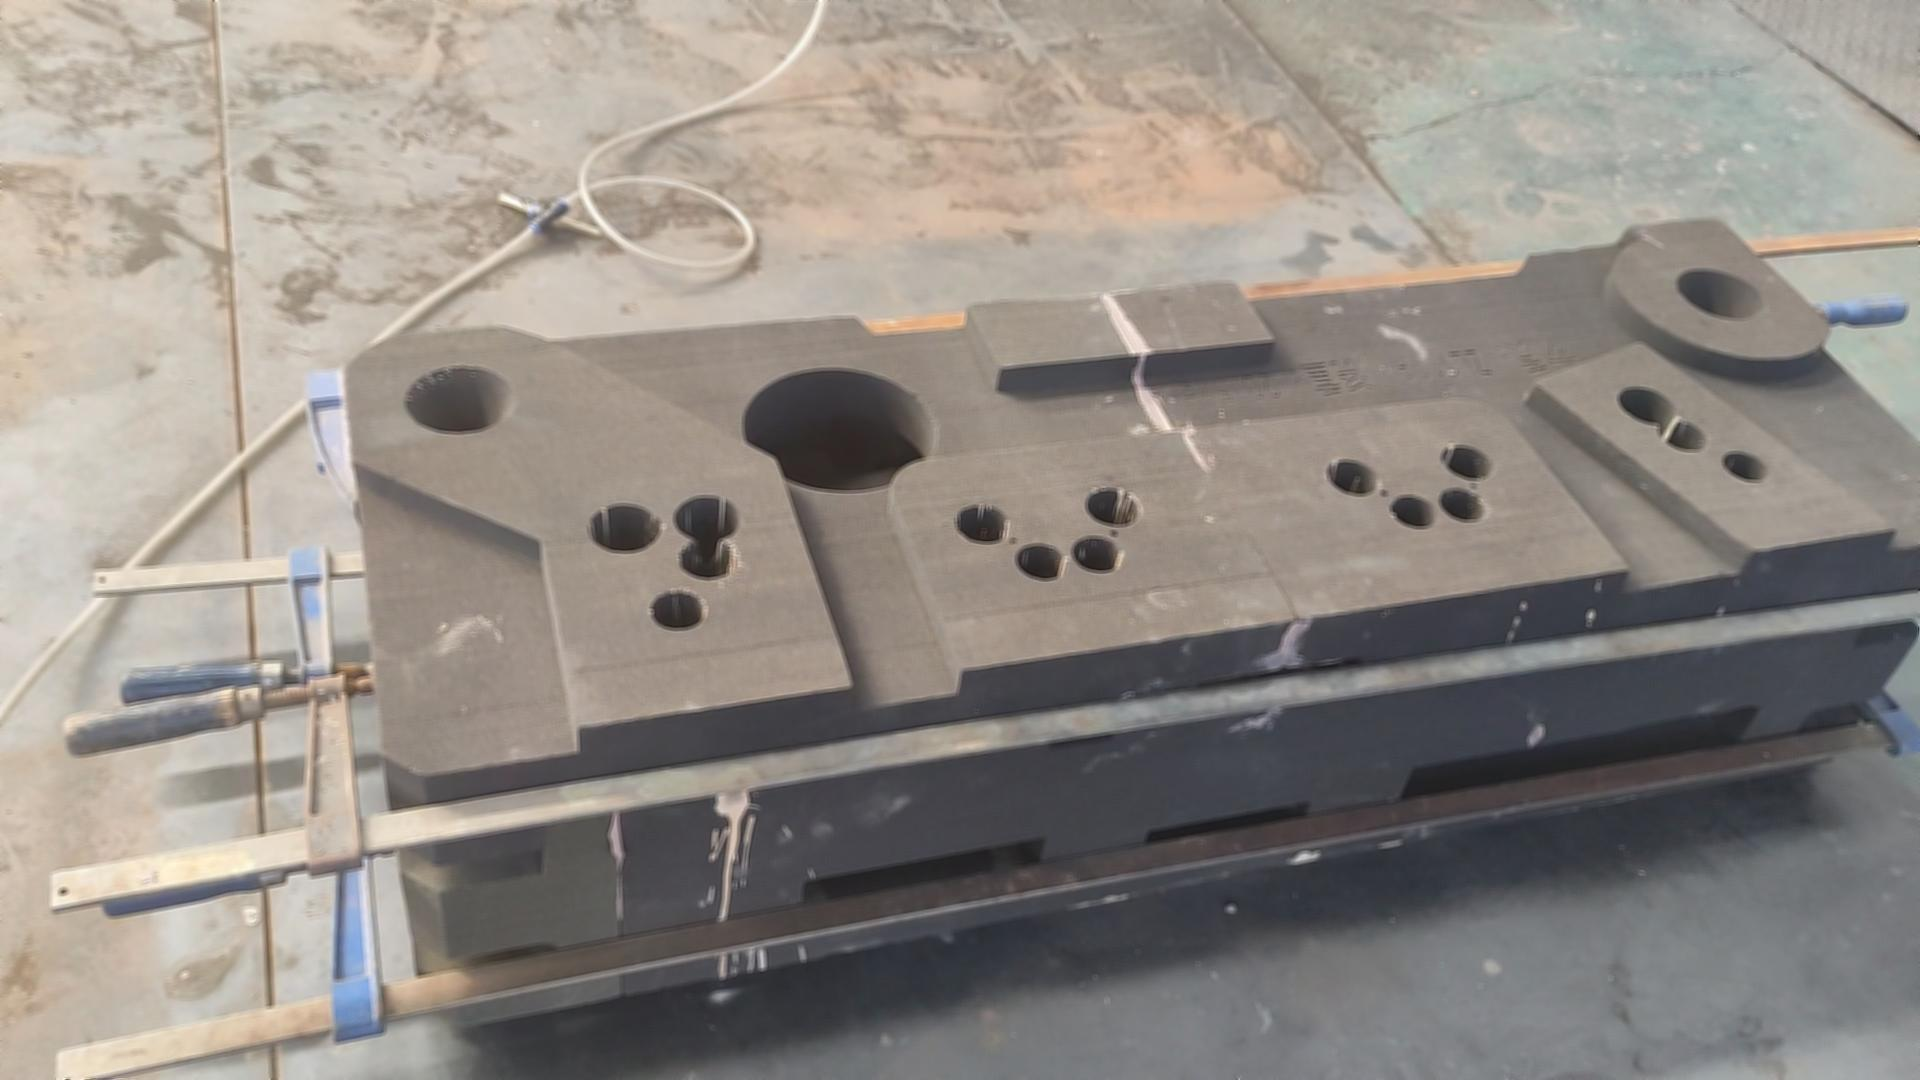pouring hole: (405, 368, 513, 433), (1677, 269, 1764, 320)
